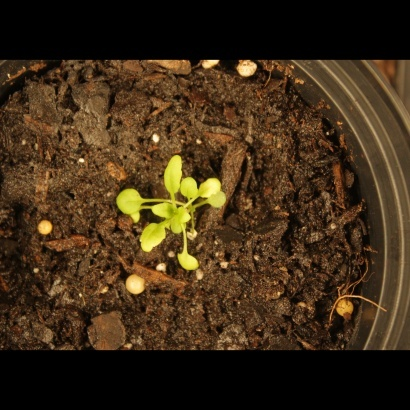leaf: (111, 185, 145, 219), (161, 151, 184, 196), (172, 246, 205, 277), (136, 223, 166, 255), (148, 200, 177, 223), (177, 177, 200, 200), (200, 176, 223, 199), (206, 189, 229, 212), (178, 204, 201, 227)
